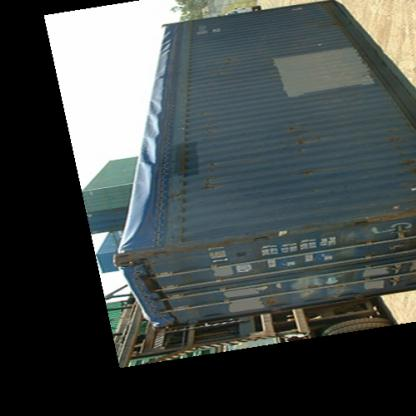Damage: (279, 107, 315, 157), (376, 114, 408, 164), (198, 156, 223, 199), (203, 48, 231, 78), (296, 164, 332, 186), (307, 12, 339, 31)
